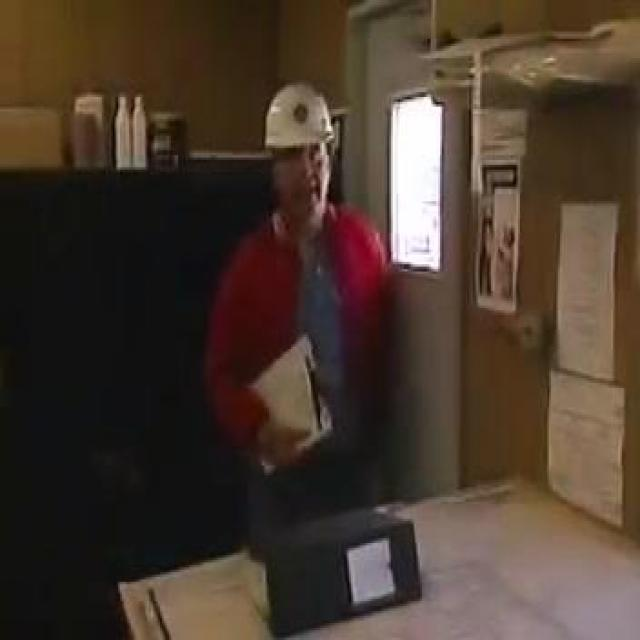Reflective-Jacket: (191, 189, 407, 487)
Safety-Helmet: (249, 66, 351, 170)
